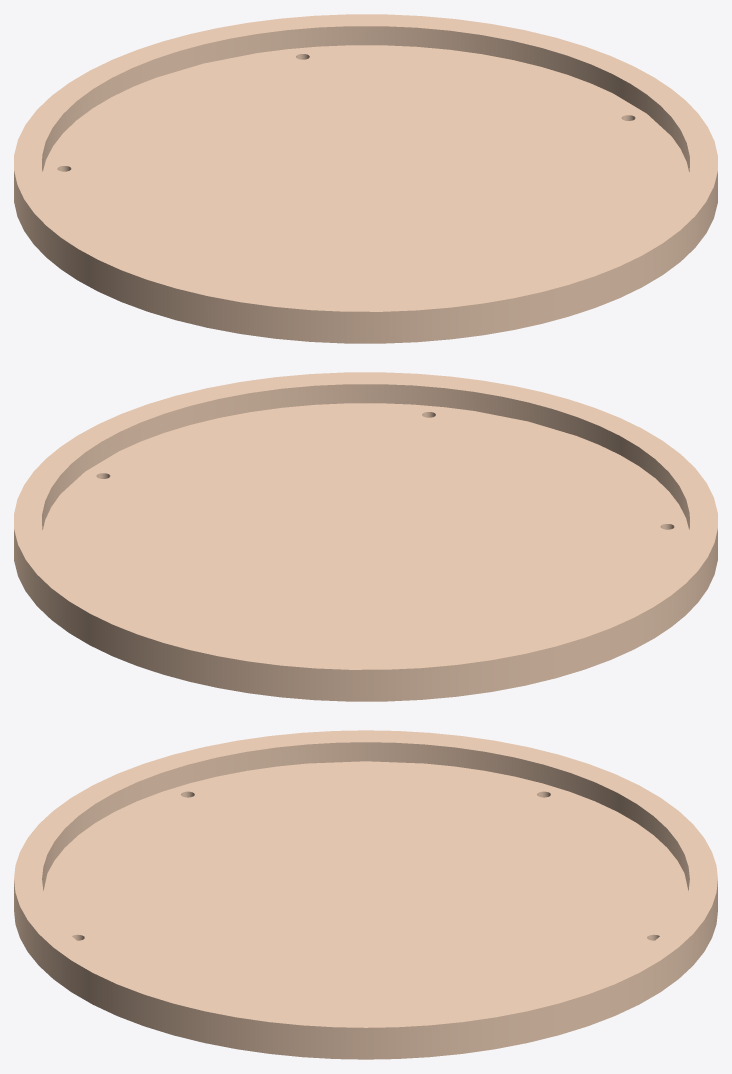
File: SPBA-CEIL-5-Gold.glb
The picture shows the model from 3 angles, top to bottom: view 1: azimuth 30°, elevation 25°; view 2: azimuth 150°, elevation 25°; view 3: azimuth 270°, elevation 25°; orthographic projection.
Parts seen in each view (by area): view 1: Mesh_1, Mesh_0; view 2: Mesh_1, Mesh_0; view 3: Mesh_1, Mesh_0.
Part boxes in pixels (x1,y1,x2,y2): Mesh_1: (42,45,689,299); Mesh_0: (14,14,717,343); Mesh_1: (42,403,689,657); Mesh_0: (14,372,717,701); Mesh_1: (43,761,688,1015); Mesh_0: (14,730,717,1059).
Size of the model in its own units: 0.52 by 0.0259 by 0.52.
